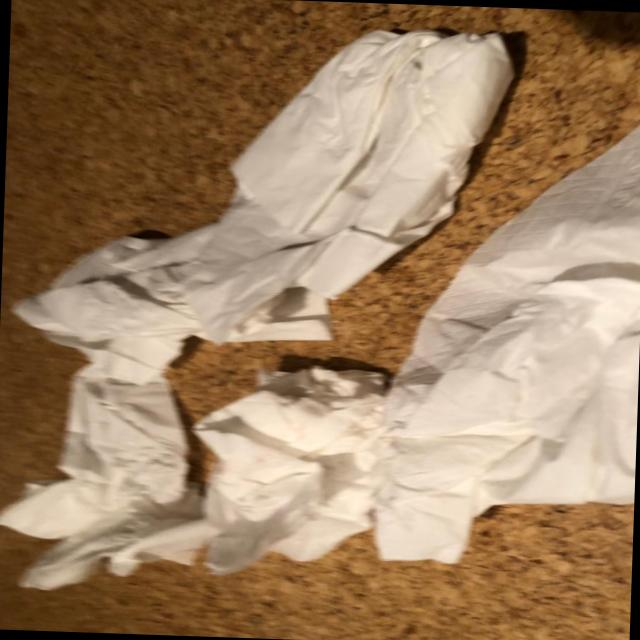organic waste: (1, 6, 522, 396), (368, 98, 640, 571), (0, 355, 213, 598), (181, 356, 396, 585)
